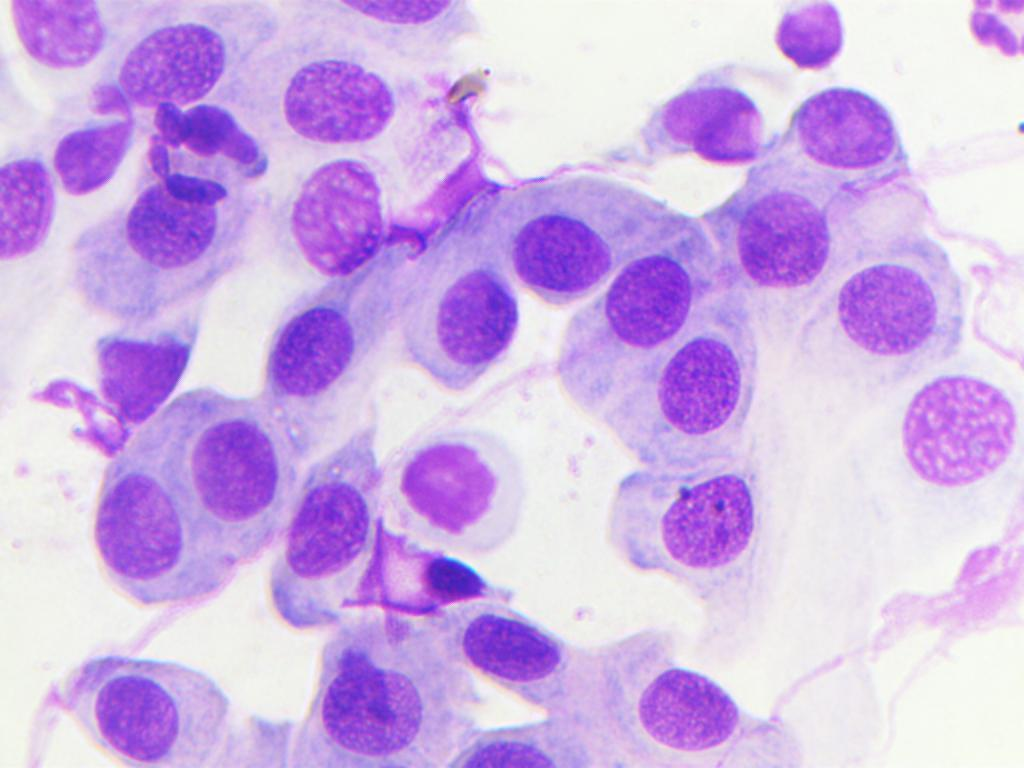artifact: (416, 61, 516, 223), (149, 94, 268, 202), (370, 526, 430, 612)
epithelial: (4, 654, 241, 767), (606, 458, 777, 591), (378, 425, 531, 556), (297, 641, 440, 767), (828, 240, 964, 363), (892, 373, 1023, 493), (601, 658, 769, 748), (85, 450, 190, 591), (428, 228, 520, 386), (289, 155, 398, 288), (277, 43, 400, 155), (777, 86, 915, 183), (637, 334, 753, 447), (618, 80, 764, 169), (181, 395, 277, 524), (43, 85, 146, 205), (256, 292, 365, 399), (2, 0, 127, 93), (724, 183, 834, 288), (281, 446, 365, 577), (118, 18, 237, 105), (122, 177, 220, 280), (505, 211, 616, 299), (454, 609, 590, 676), (610, 241, 694, 346), (1, 144, 67, 272), (454, 721, 582, 768)
goblet_cell: (74, 329, 198, 423)
metaplastic: (771, 0, 846, 73), (414, 554, 497, 604)
neutrophil: (952, 0, 1024, 54)
